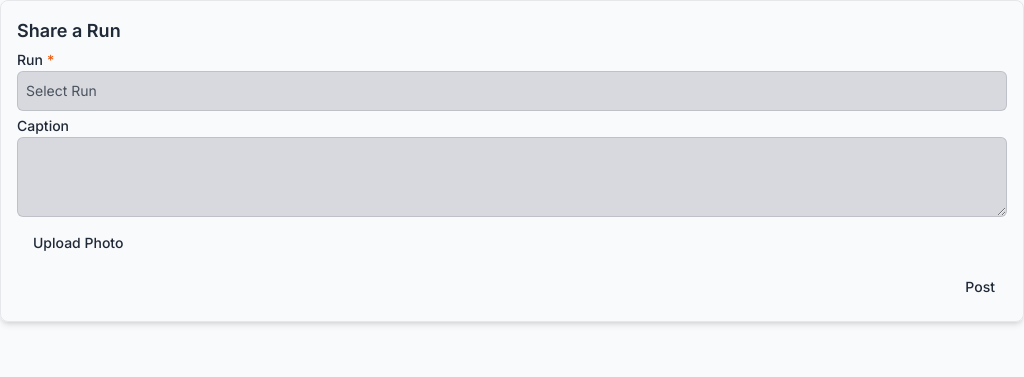
Scenario: CreateSocialPost › submits post data
Select "7/17/2025 06:40 PM - run - 3 miles" in the dropdown labelled "Run*" at (512, 91), box [17, 71, 1007, 111]
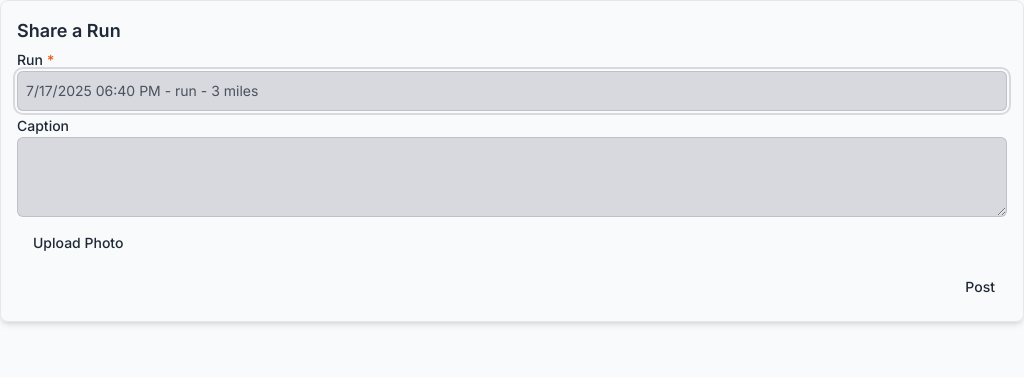
Type "Nice run" into the text box labelled "Caption" at (512, 177), box [17, 137, 1007, 217]
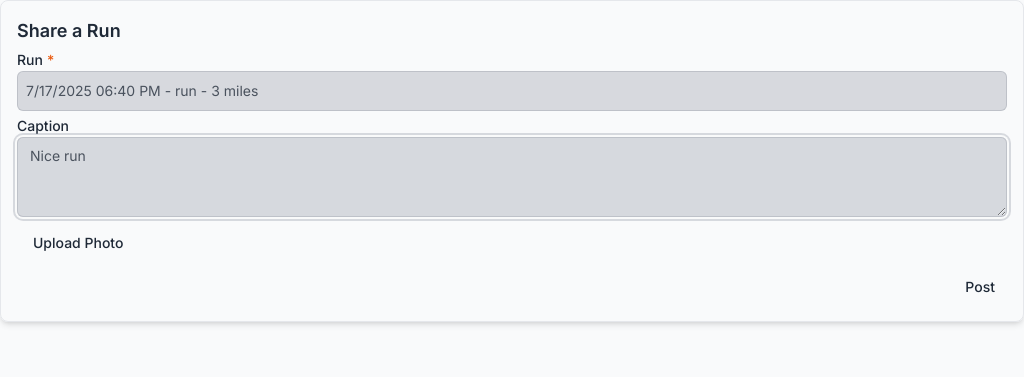
Click the button "Post" at (980, 287), box [953, 269, 1007, 305]
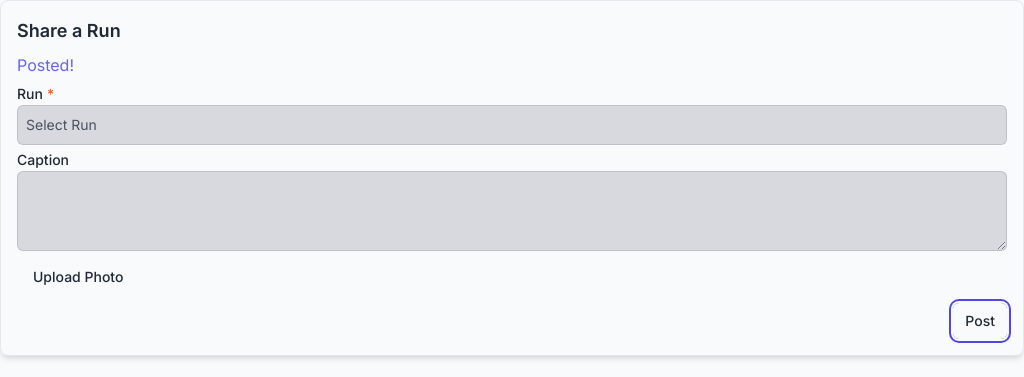
Expected: the text "Posted!" is shown, [17, 55, 74, 75]
